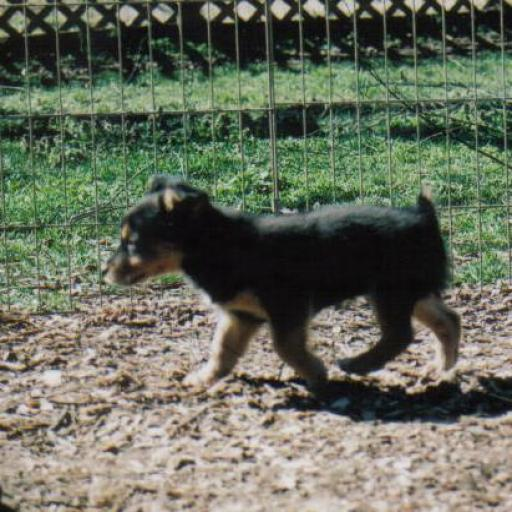Dog: (81, 170, 495, 400)
